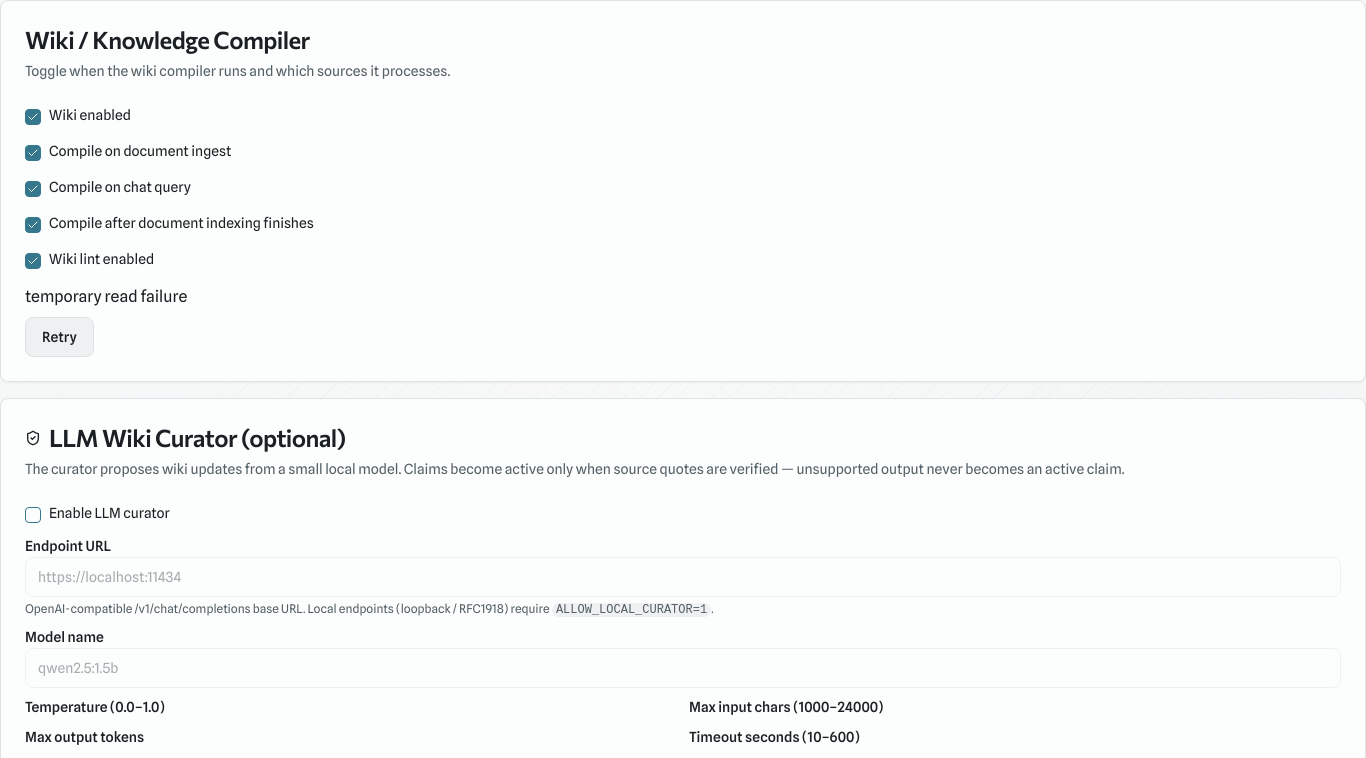
Test: WikiCuratorSettings issue #774 read outcomes › renders the authoritative enrichment result after Retry for false permission
Check: the message shows "temporary read failure", box [25,287,187,306]
Click the button "Retry". click: (59, 337)
box: [25,317,94,357]
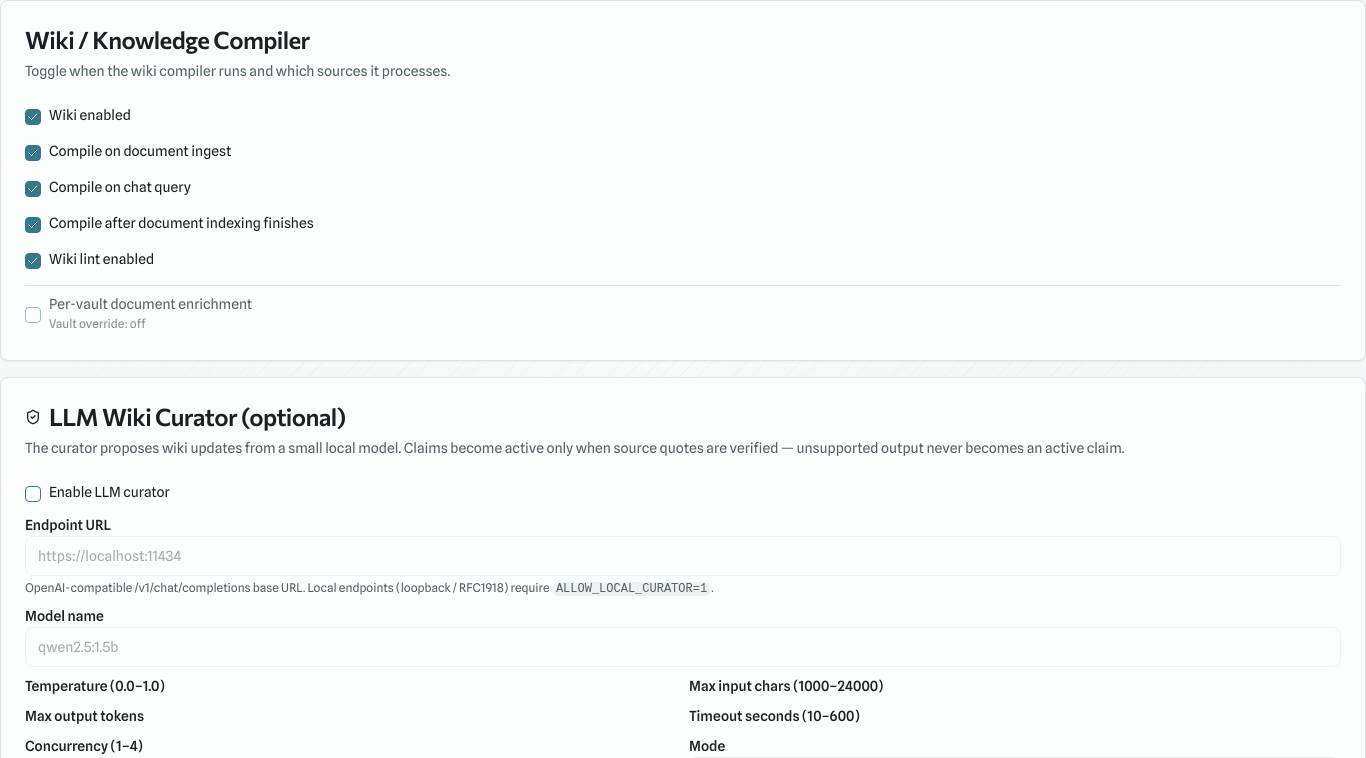
Check: the checkbox named "Per-vault document enrichment" next to "Per-vault document enrichment" is not checked, box [25,307,41,323]
Check: the checkbox named "Per-vault document enrichment" next to "Per-vault document enrichment" is disabled, box [25,307,41,323]
Check: the text "Vault override: off" is shown, box [49,316,146,331]
